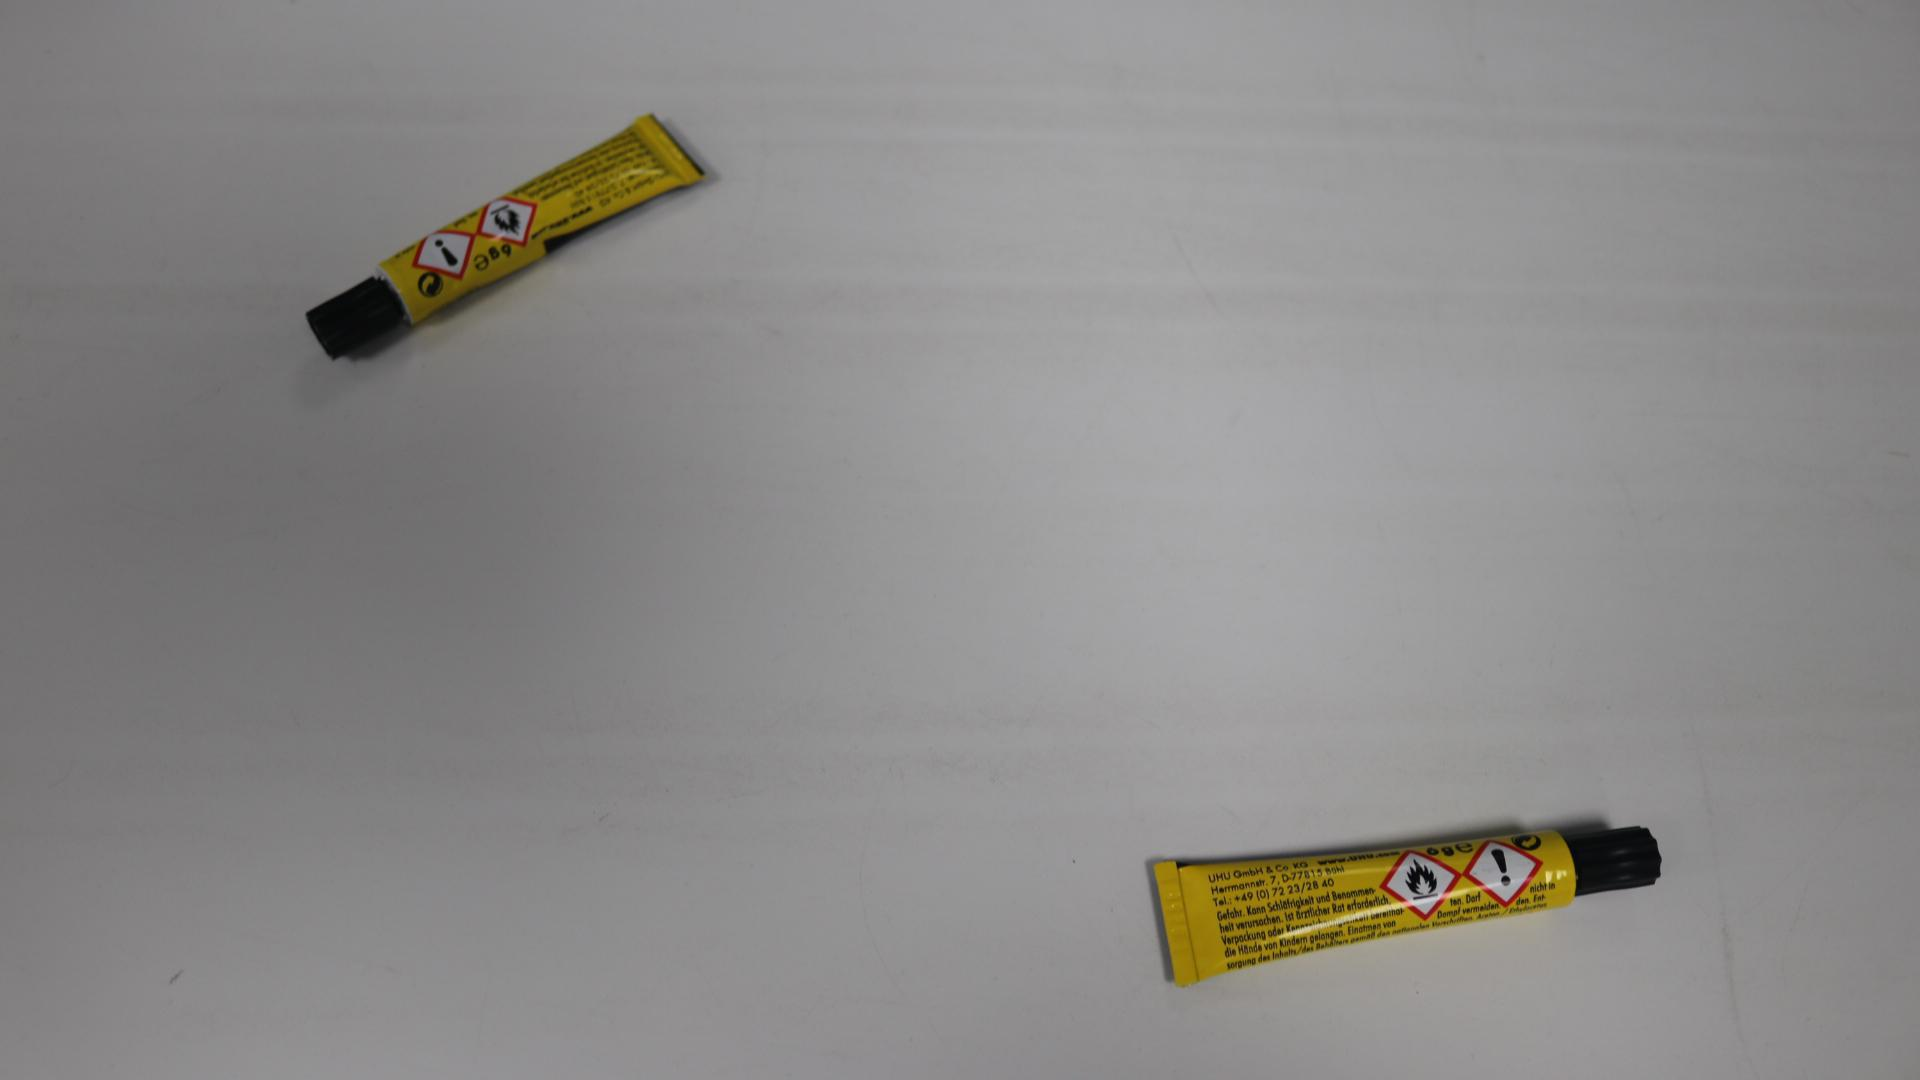Head: (350, 305, 362, 318), (1606, 854, 1618, 864)
Tail: (1167, 915, 1185, 934), (662, 140, 673, 155)
Tube: (307, 113, 708, 361), (1153, 826, 1663, 988)
